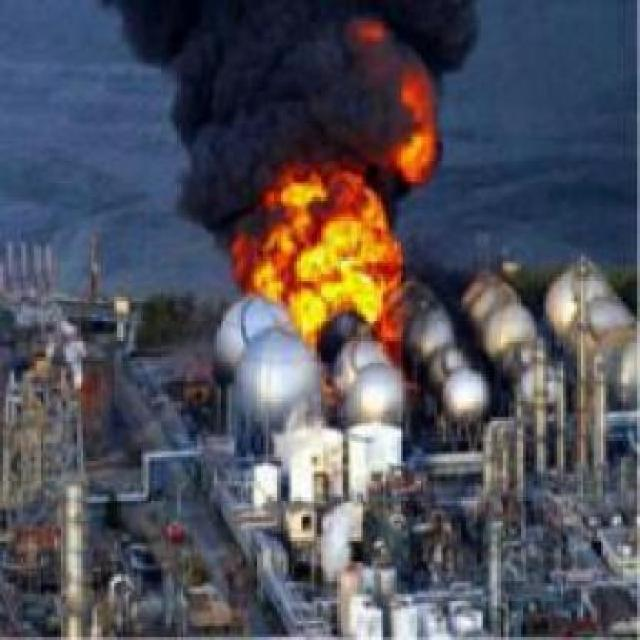Fire: (227, 164, 402, 344), (392, 76, 438, 178)
Smoke: (225, 0, 392, 165), (115, 0, 223, 222), (392, 0, 478, 74)
